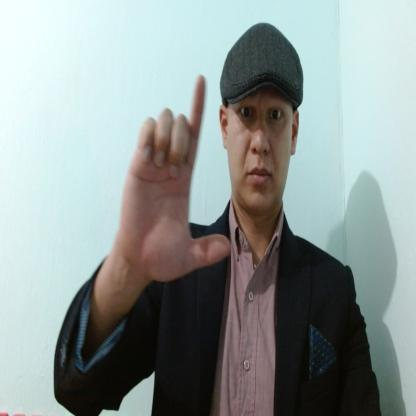L: (121, 73, 231, 284)
